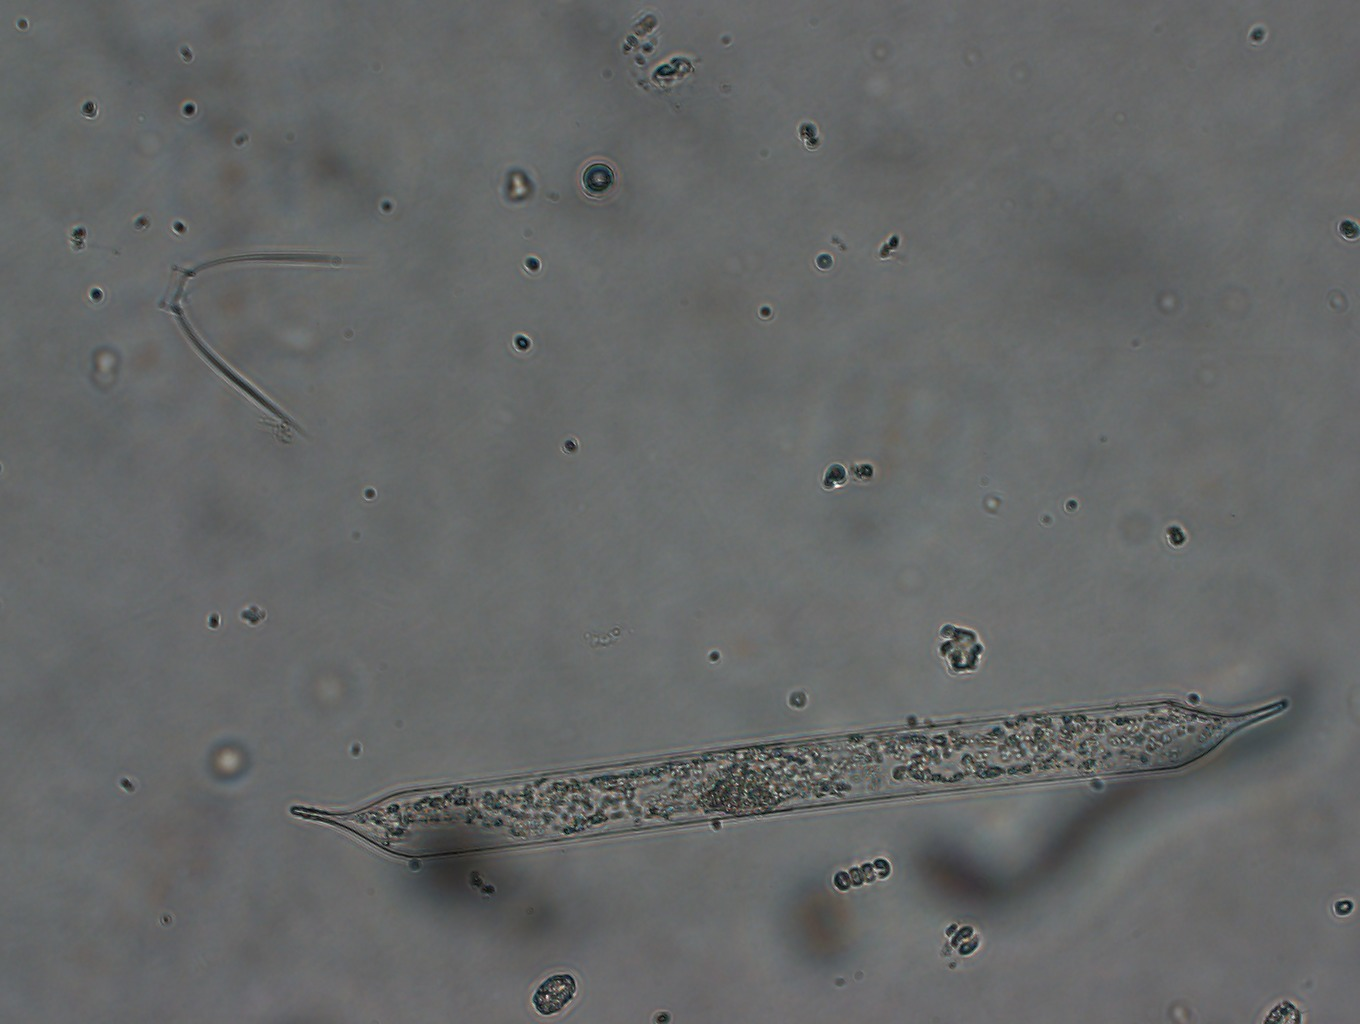rhizosolenia: (264, 697, 1332, 863)
